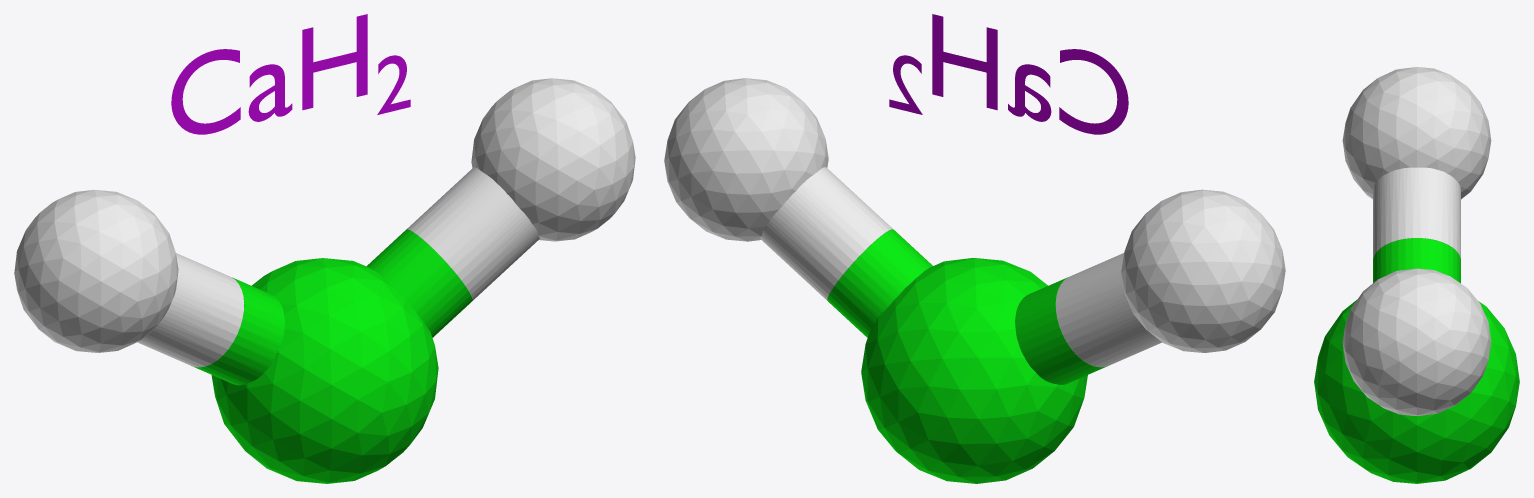
Rendered from cah2.glb.
3 renders of one model, left to right at view 1: azimuth 30°, elevation 25°; view 2: azimuth 150°, elevation 25°; view 3: azimuth 270°, elevation 25°, orthographic. The views are drawn at different scales.
Parts seen in each view (by area): view 1: Shape_IndexedFaceSet.002, Shape_IndexedFaceSet.007, Text, Text.002; view 2: Shape_IndexedFaceSet.002, Shape_IndexedFaceSet.007, Text, Text.002; view 3: Shape_IndexedFaceSet.002, Shape_IndexedFaceSet.007.
Part boxes in pixels (<box>): Shape_IndexedFaceSet.002: <box>14,78,635,367</box>; Shape_IndexedFaceSet.007: <box>192,229,472,483</box>; Text: <box>171,14,367,134</box>; Text.002: <box>377,55,410,114</box>; Shape_IndexedFaceSet.002: <box>664,78,1285,367</box>; Shape_IndexedFaceSet.007: <box>827,229,1107,483</box>; Text: <box>932,14,1128,134</box>; Text.002: <box>889,55,922,114</box>; Shape_IndexedFaceSet.002: <box>1342,67,1491,415</box>; Shape_IndexedFaceSet.007: <box>1314,238,1519,483</box>.
Bounding box in the file's own units: 21.28 × 15.29 × 7.
